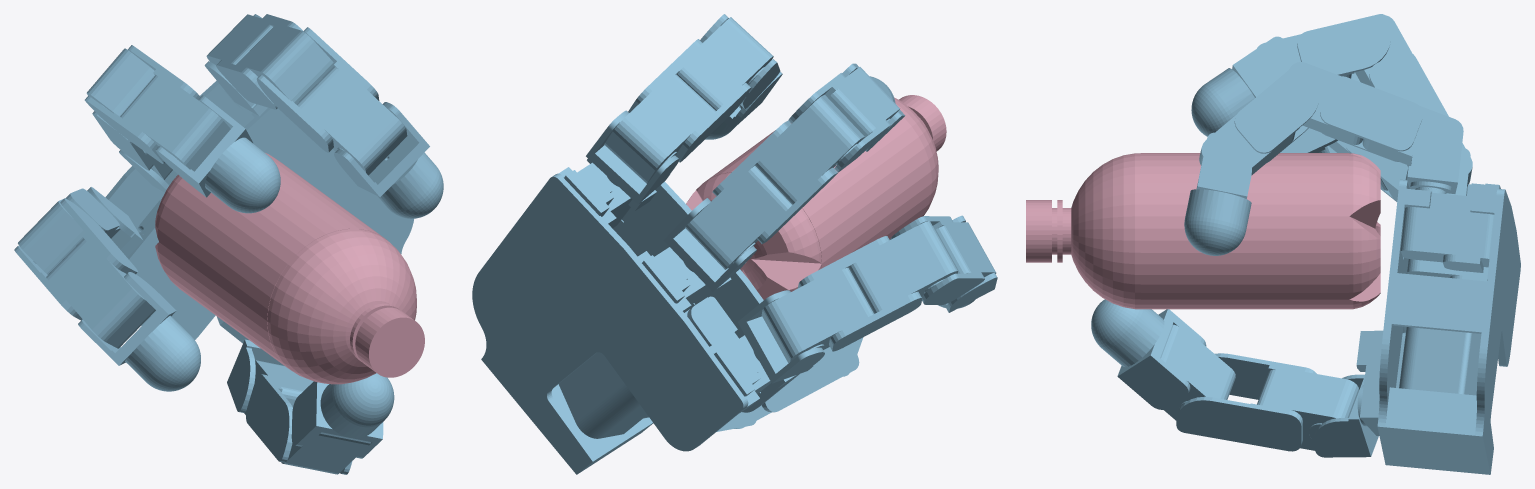
3 renders of one model, left to right at view 1: azimuth 30°, elevation 25°; view 2: azimuth 150°, elevation 25°; view 3: azimuth 270°, elevation 25°, orthographic. The views are drawn at different scales.
Parts seen in each view (by area): view 1: world, water_bottle.stl; view 2: world, water_bottle.stl; view 3: world, water_bottle.stl.
Boxes of the visible parts, x1,y1,x2,y2 form: world: (14,14,443,474); water_bottle.stl: (155,153,424,384); world: (472,14,997,474); water_bottle.stl: (686,95,946,299); world: (1091,14,1520,474); water_bottle.stl: (1026,153,1380,309).
Bounding box in the file's own units: 0.1811 × 0.1665 × 0.1905.
